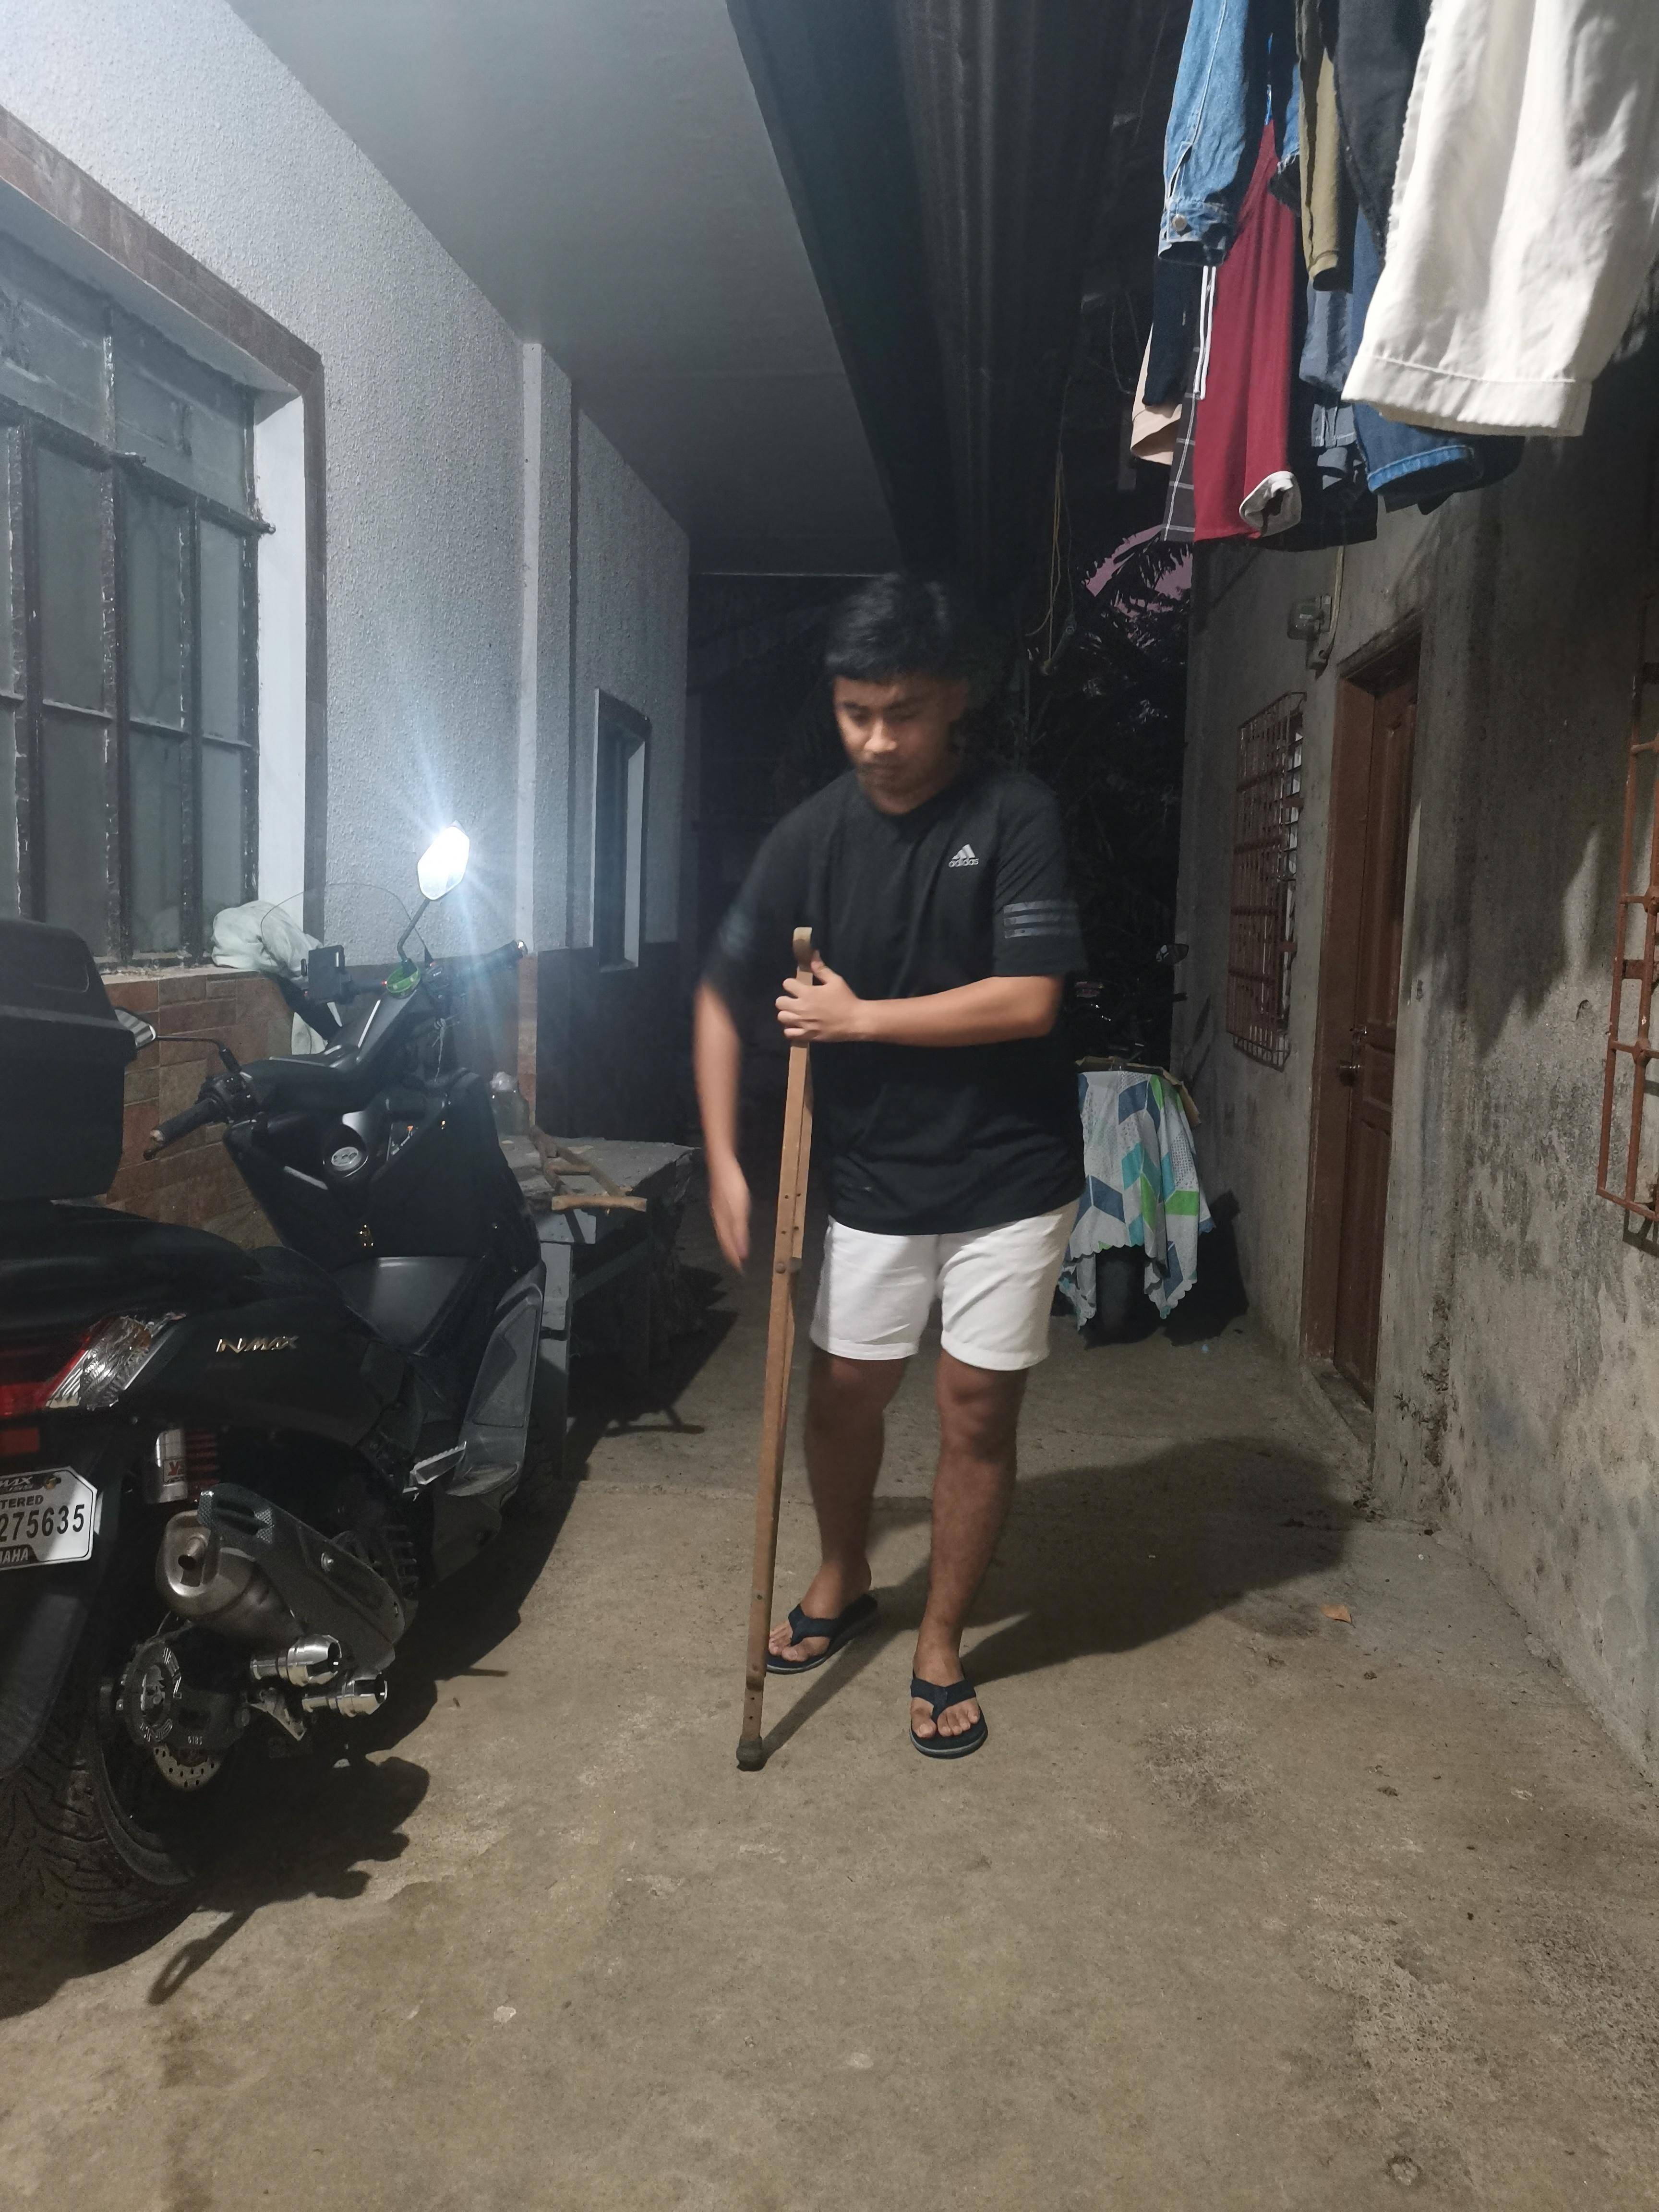crutches: (673, 543, 1098, 1782)
